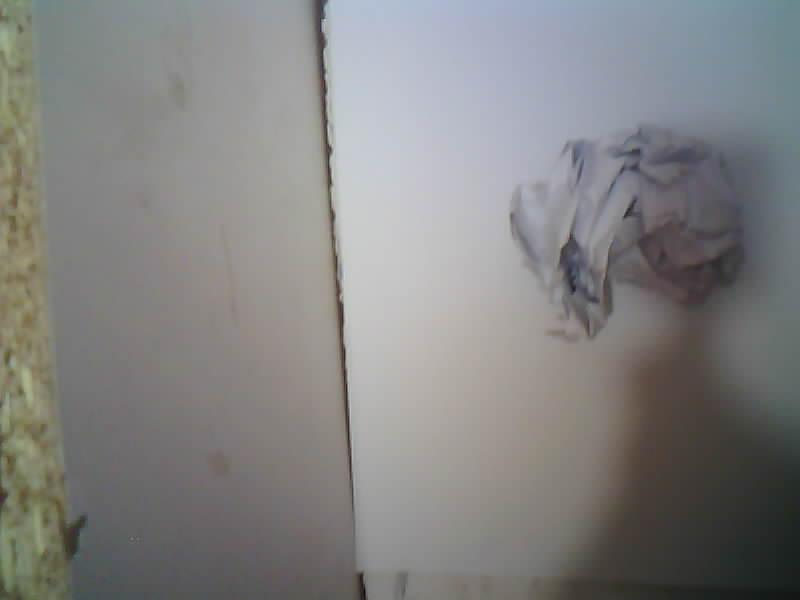biodegradable: (509, 125, 742, 339)
